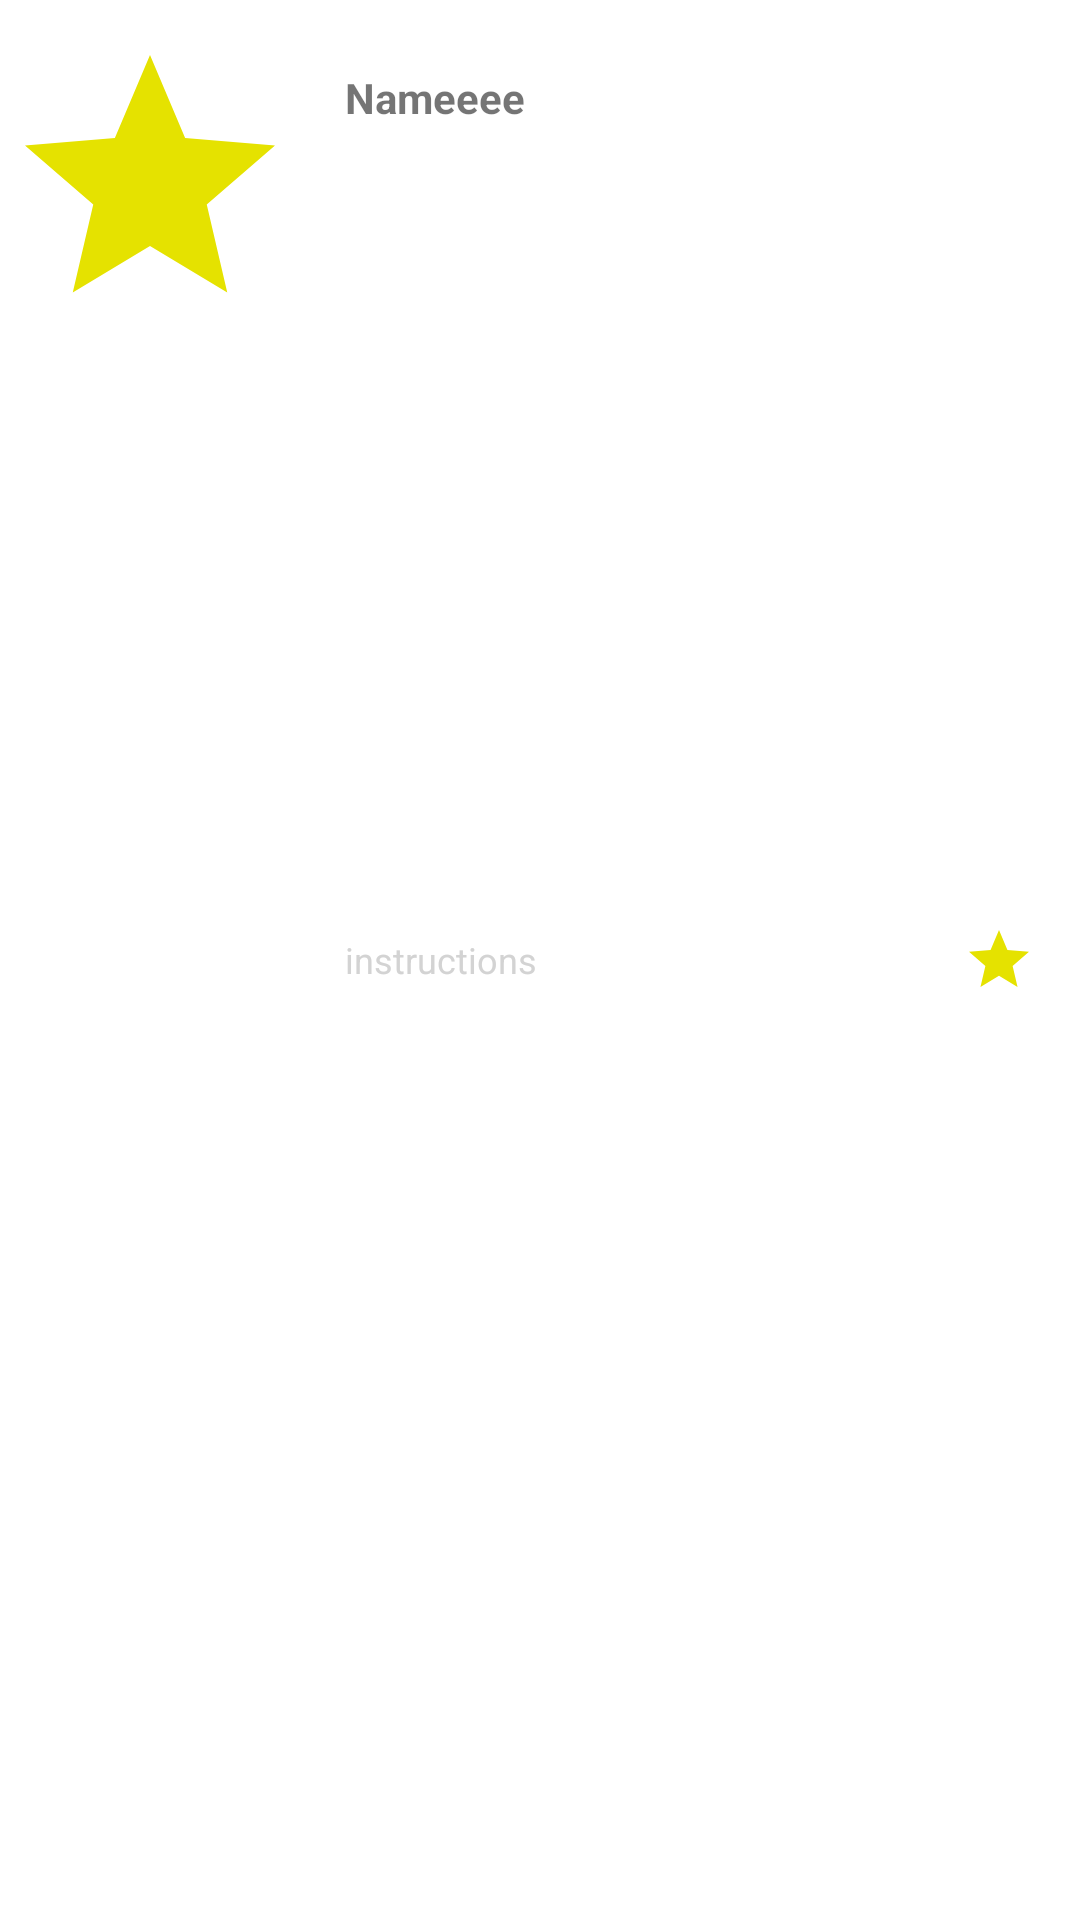

Icons on this 1080 x 1920 Android screen, each with the point to tap as (x,y):
star: (150,173), (999,958)
